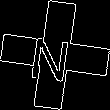N_N: (32, 27, 78, 83)
